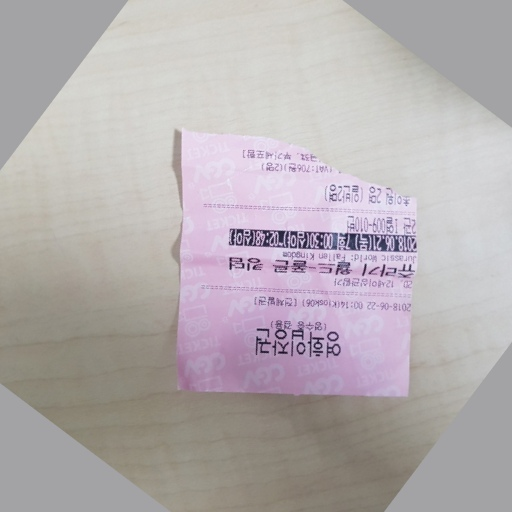Paper_2: (157, 142, 438, 407)
